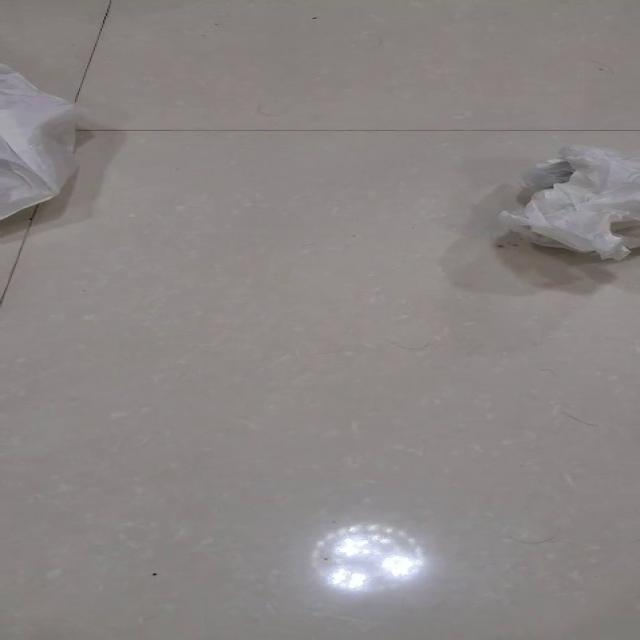plastic: (496, 143, 638, 261), (0, 61, 80, 220)
